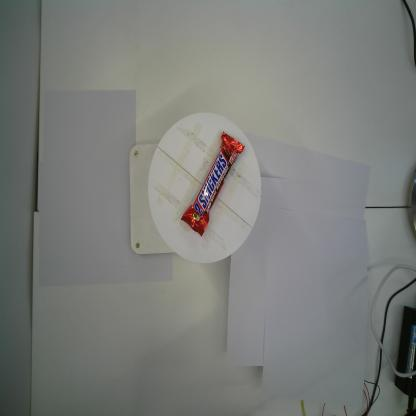Chocolate: (180, 129, 246, 239)
